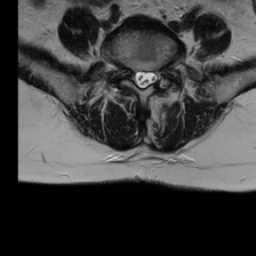CCS_normal: (139, 64, 147, 93)
LFS_normal: (156, 60, 164, 84)
LLS_normal: (147, 66, 155, 90)
RFS_severe_stenosis: (124, 60, 132, 83)
RLS_normal: (132, 64, 140, 88)
